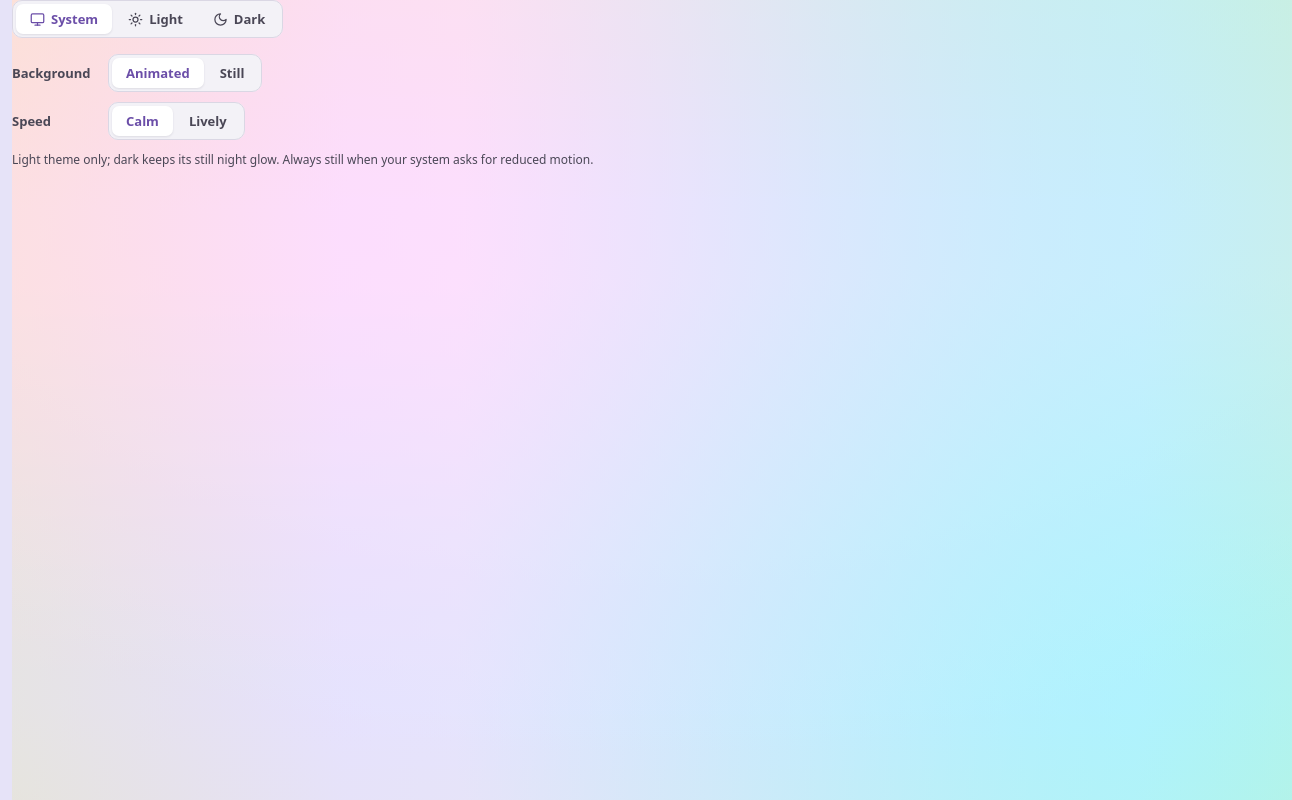
Test: the light theme background › Appearance shows Animated / Still and Calm / Lively, and remembers them
Expected: the radio button labelled "Animated" is checked, [112,58,204,88]
Expected: the radio button labelled "Calm" is checked, [112,106,173,136]
Click the radio button labelled "Lively": point(208, 121) [189,112,227,130]
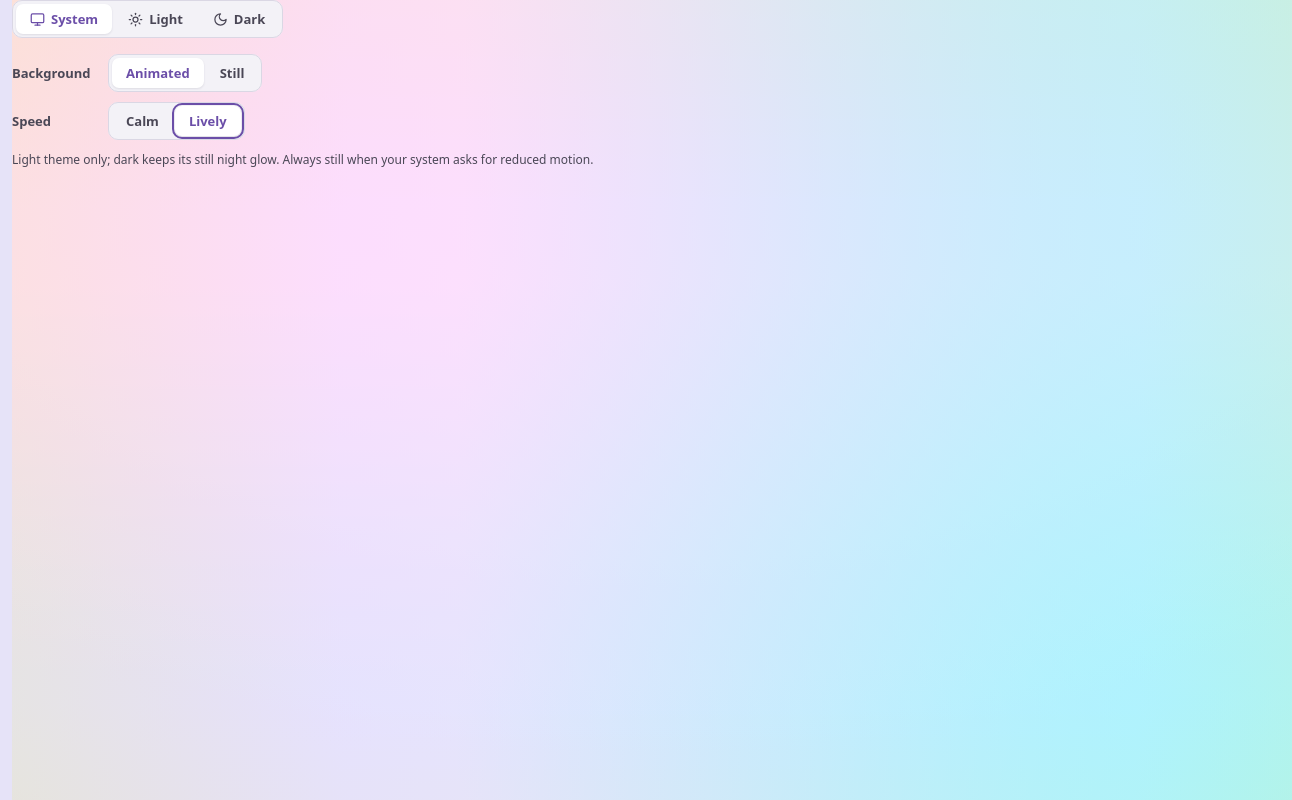
Click the radio button labelled "Still": point(232, 73) [220,64,244,82]
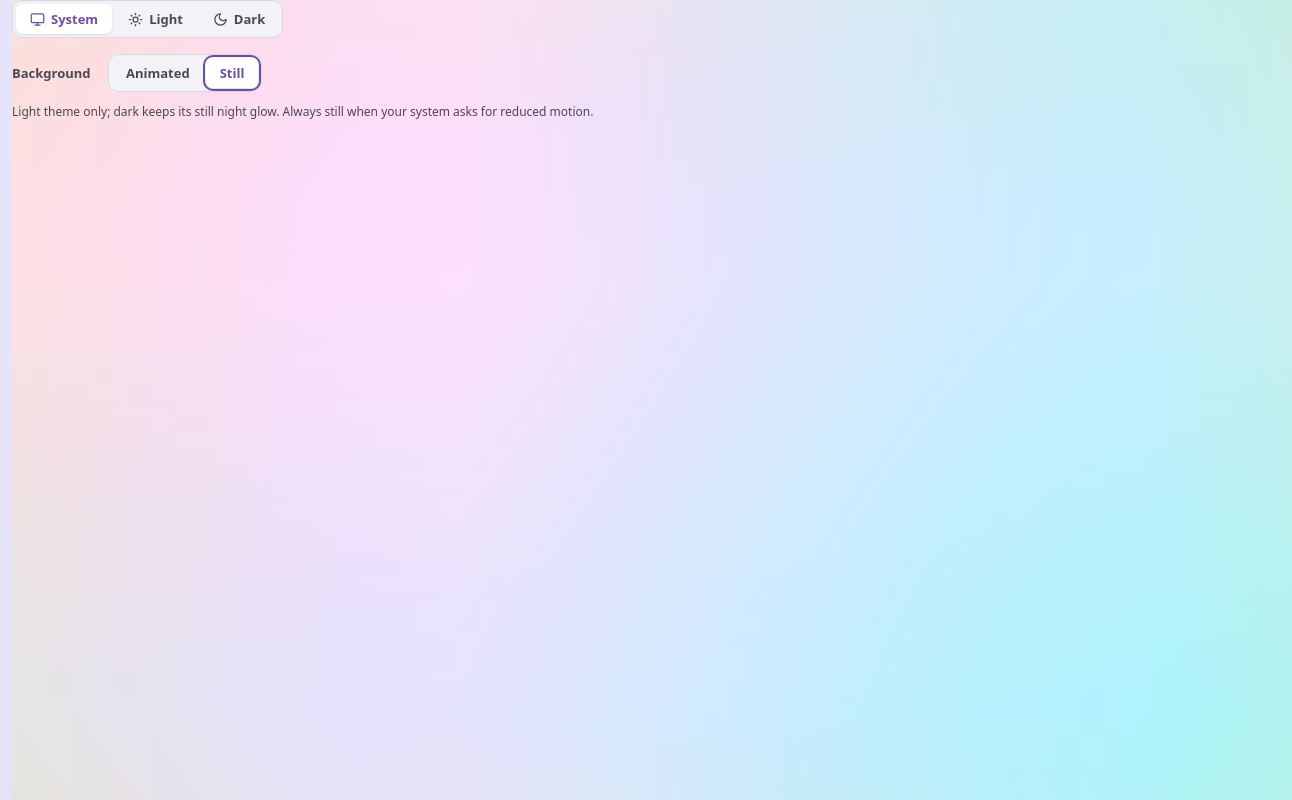
Expected: the text "Calm" is gone
Click the radio button labelled "Animated": point(158, 73) [126,64,190,82]
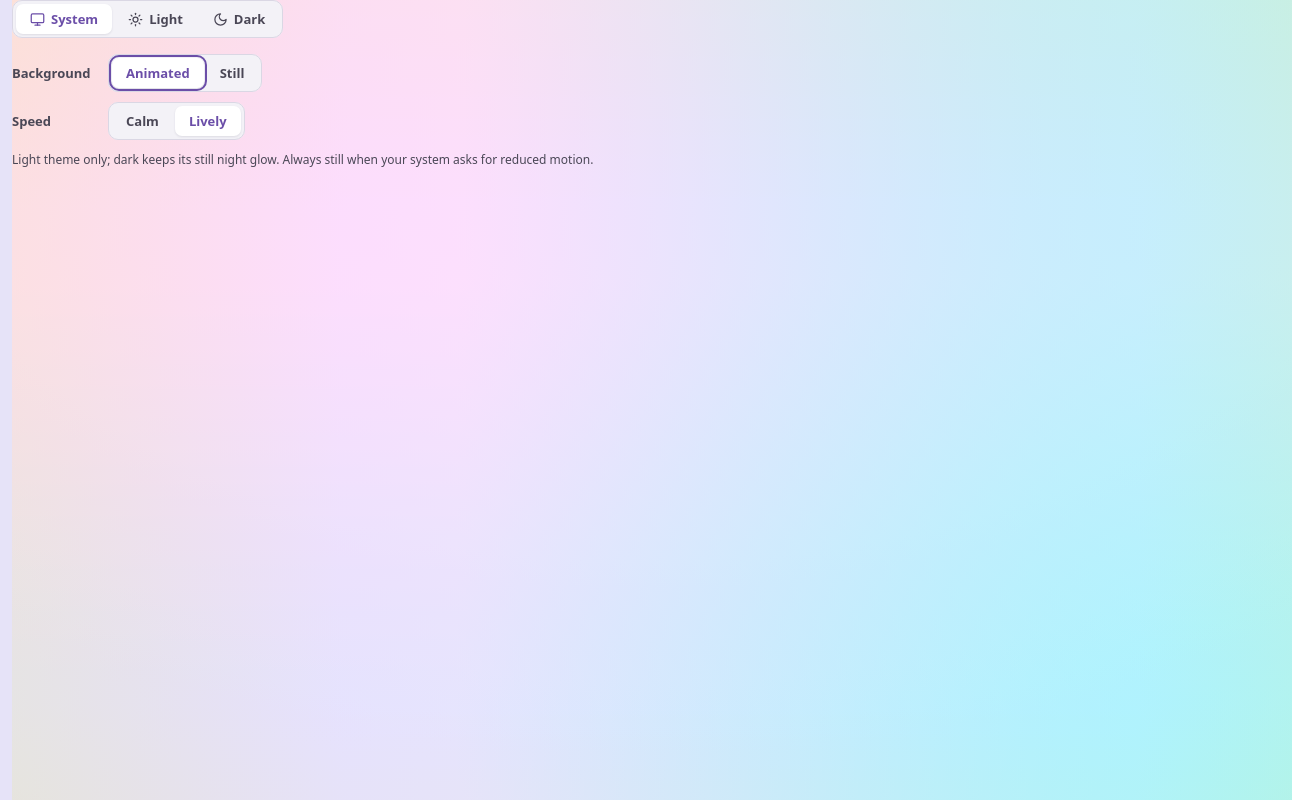
Expected: the radio button labelled "Lively" is checked, [175,106,241,136]
